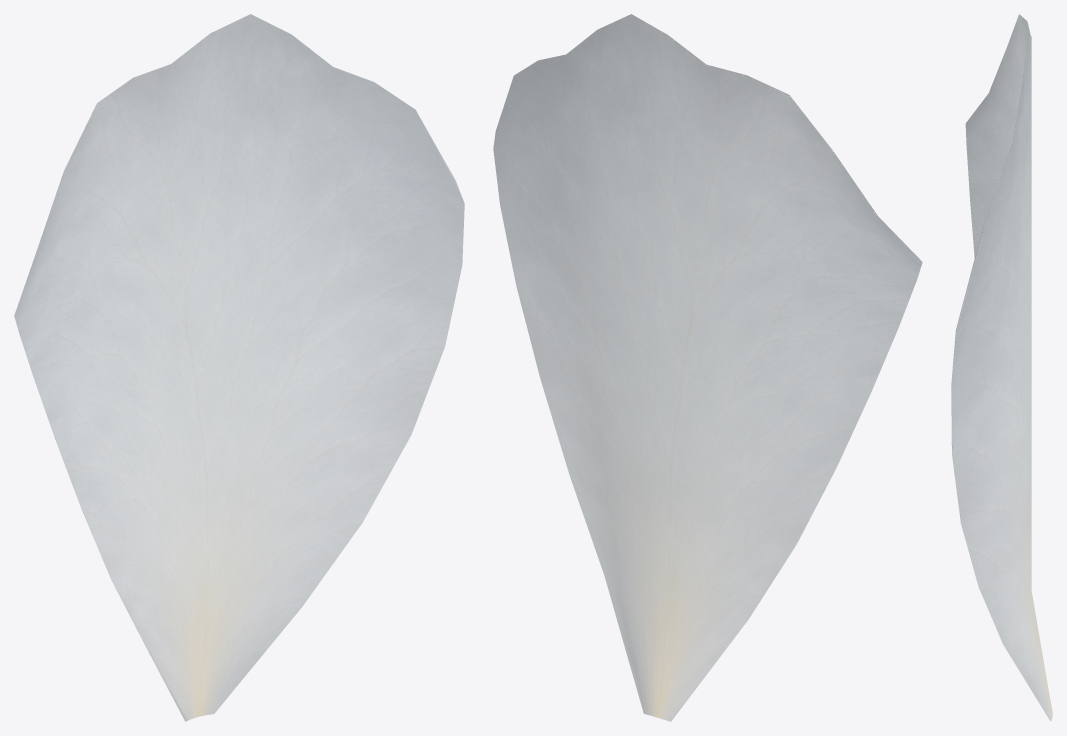
Rendered from middle_03.glb.
3 renders of one model, left to right at view 1: azimuth 30°, elevation 25°; view 2: azimuth 150°, elevation 25°; view 3: azimuth 270°, elevation 25°, orthographic. The views are drawn at different scales.
Parts seen in each view (by area): view 1: middle_03; view 2: middle_03; view 3: middle_03.
Part boxes in pixels (bbox=[...]): middle_03: bbox=[14, 14, 464, 721]; middle_03: bbox=[493, 14, 922, 721]; middle_03: bbox=[951, 14, 1052, 721].
Size of the model in its own units: 0.0589 by 0.0892 by 0.0119.
1 material, 1 textured.
